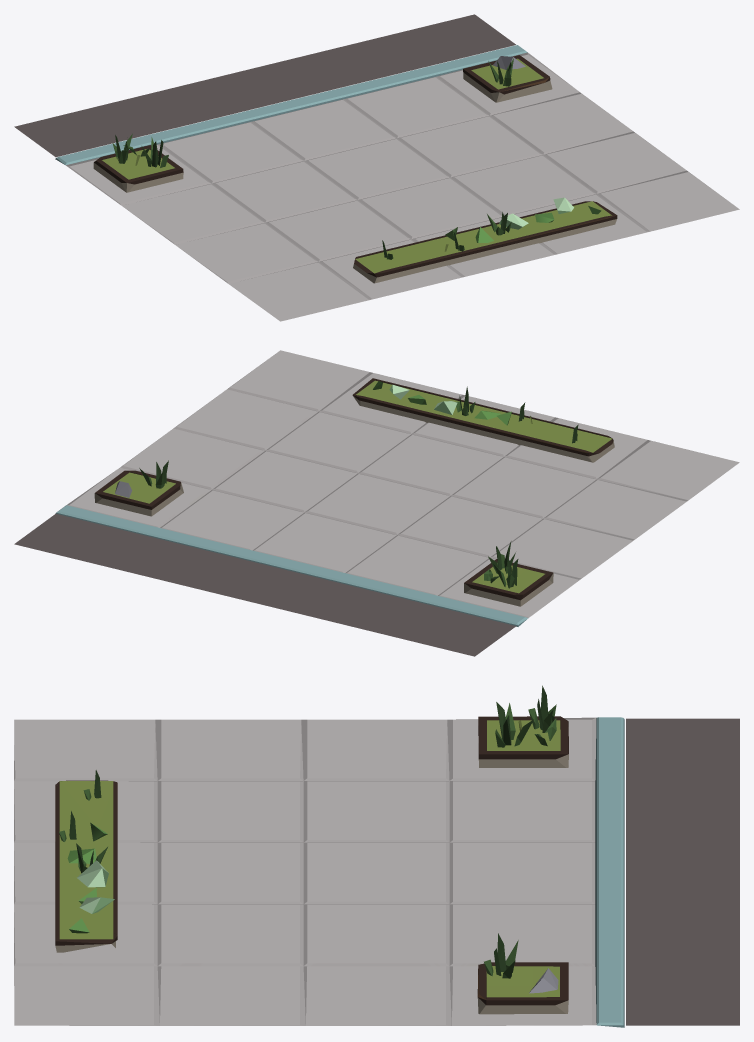
The model's file is QmQ1hmRHTJ35iEXwLYUmJJeaHTrH8SNvXp3eZzBbnmtZ1o_lod2.fbx.
3 renders of one model, top to bottom at view 1: azimuth 30°, elevation 25°; view 2: azimuth 150°, elevation 25°; view 3: azimuth 270°, elevation 25°, orthographic. The views are drawn at different scales.
Visible parts, largest first — view 1: Entity_512; view 2: Entity_512; view 3: Entity_512.
Boxes of the visible parts, box(x1,y1,x2,y2) form: Entity_512: box(14, 14, 739, 321); Entity_512: box(14, 350, 739, 656); Entity_512: box(14, 685, 739, 1027).
Size of the model in its own units: 16000 by 1380 by 15918.
Materials: 1 (1 with a texture image).
